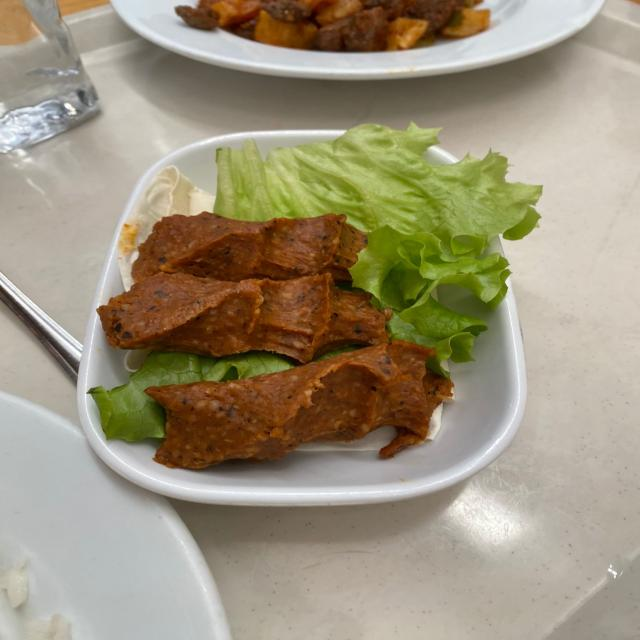yan_yemek: (82, 122, 541, 494)
